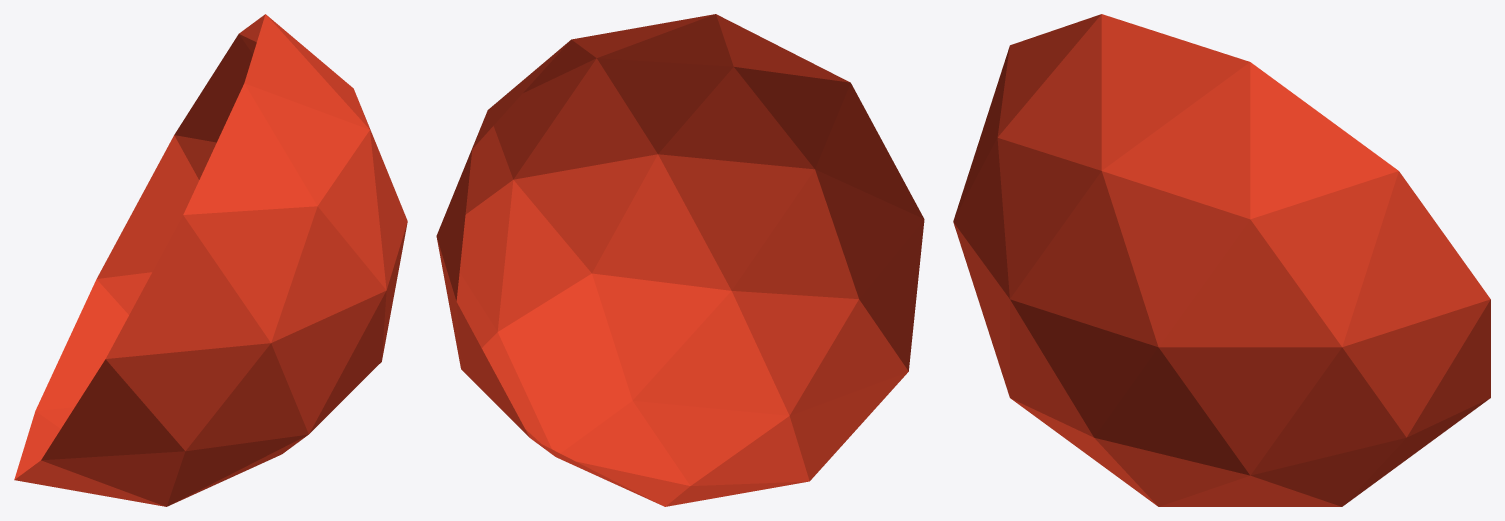
The model's file is test_click2.gltf.
3 renders of one model, left to right at view 1: azimuth 30°, elevation 25°; view 2: azimuth 150°, elevation 25°; view 3: azimuth 270°, elevation 25°, orthographic. The views are drawn at different scales.
Visible parts, largest first — view 1: test_mesh_click.001; view 2: test_mesh_click.001; view 3: test_mesh_click.001.
Boxes of the visible parts, bbox=[...] form: test_mesh_click.001: bbox=[14, 14, 407, 506]; test_mesh_click.001: bbox=[436, 14, 924, 506]; test_mesh_click.001: bbox=[953, 14, 1490, 506].
Size of what is drawn, in the model's own units: 1.72 by 1.85 by 1.81.
